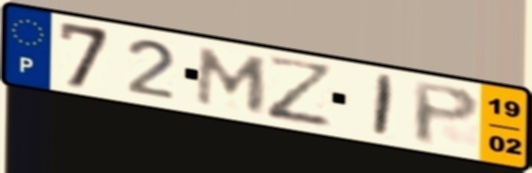2: (124, 37, 178, 102)
7: (57, 19, 111, 92)
I: (369, 71, 398, 140)
M: (192, 45, 271, 116)
P: (410, 79, 484, 148)
Z: (264, 52, 338, 129)
